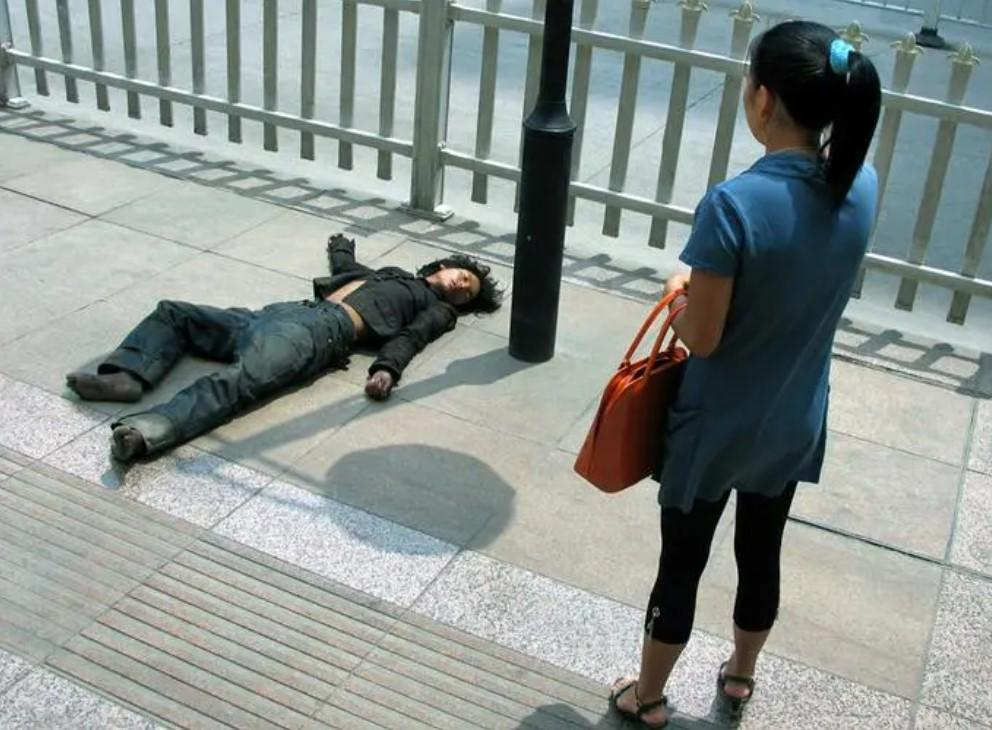down: (60, 232, 506, 475)
up: (597, 15, 884, 730)
